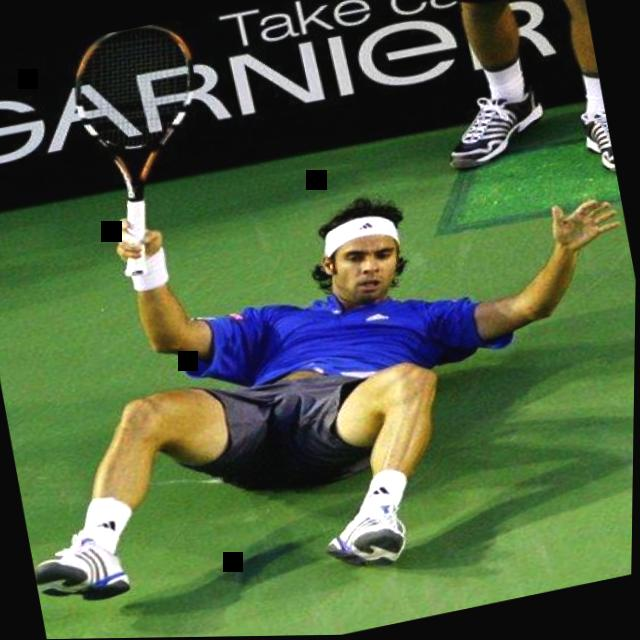Fall-Detected: (0, 50, 639, 639)
